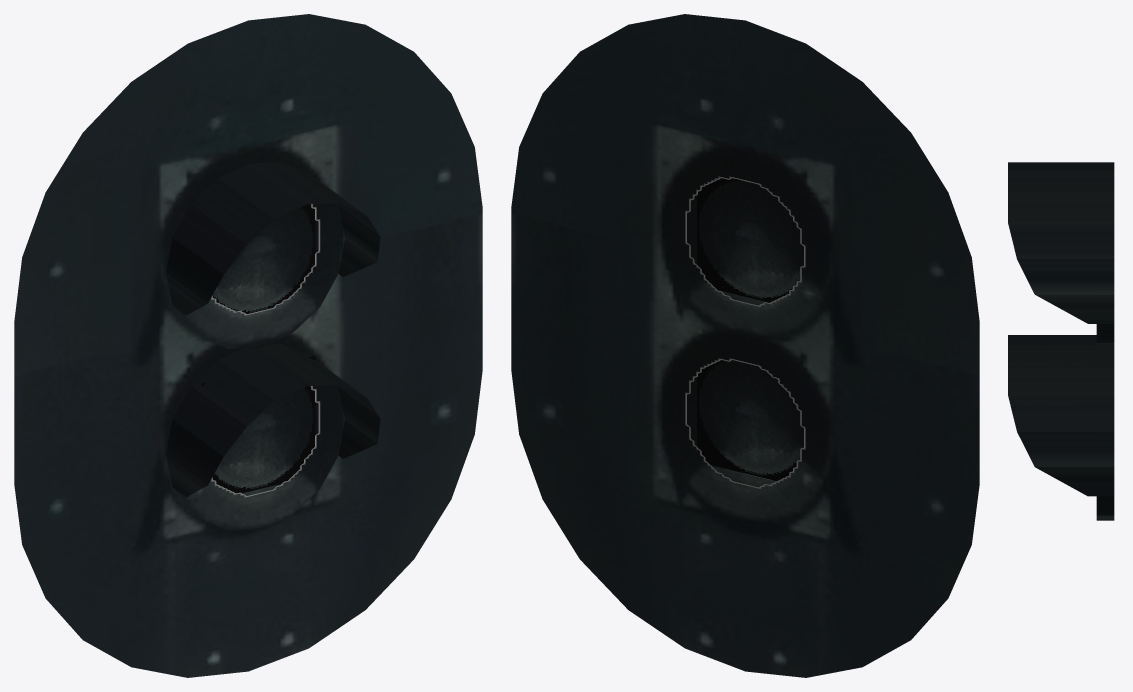
File: Signal2OFF.obj
The picture shows the model from 3 angles, left to right: view 1: azimuth 30°, elevation 25°; view 2: azimuth 150°, elevation 25°; view 3: azimuth 270°, elevation 25°; orthographic projection. The views are drawn at different scales.
Bounding box in the file's own units: 0.58 × 0.77 × 0.125.
